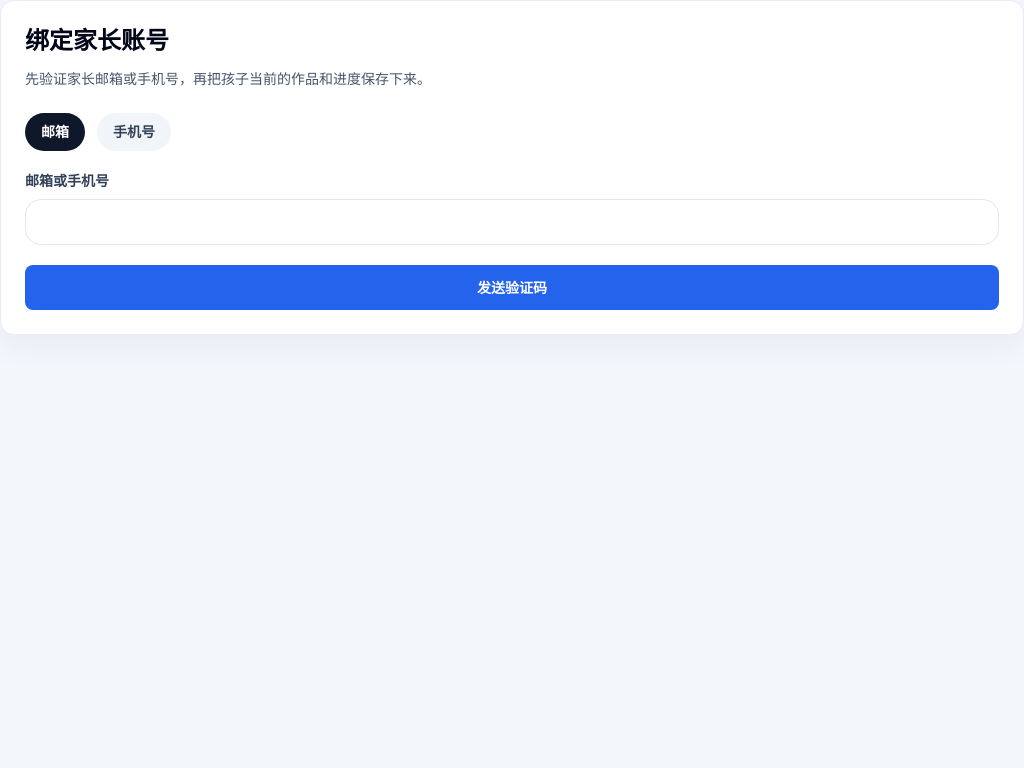
Test case: BindAccountForm › shows a generic error when the bind-account API fails without a known payload
The width and height of the screenshot is (1024, 768).
Step 1. Type "family@example.com" into the field labelled "邮箱或手机号" → (512, 222), box [25, 199, 999, 245]
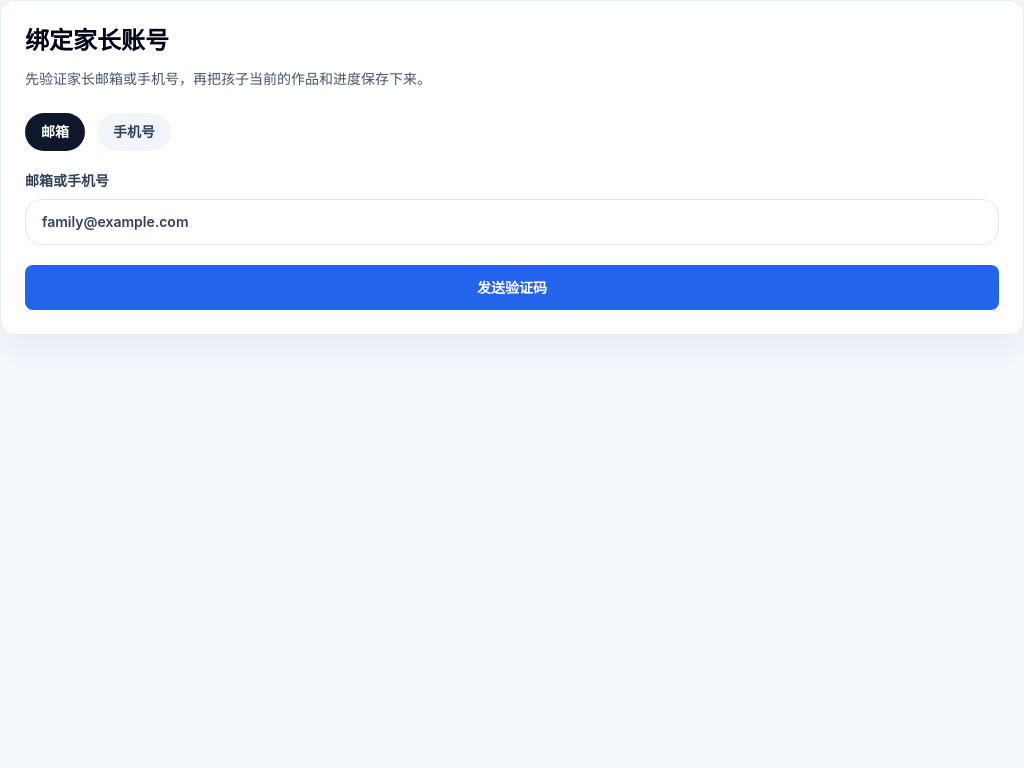
Step 2. Click the button "发送验证码" → (512, 288), box [25, 265, 999, 310]
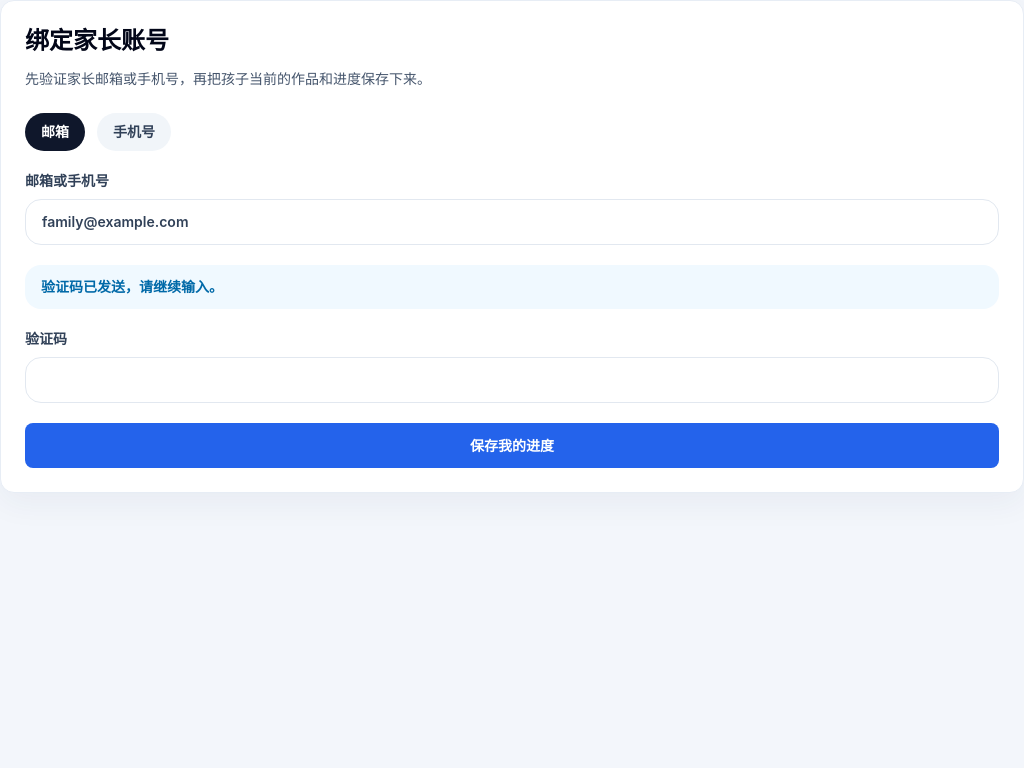
Step 3. Type "123456" into the field labelled "验证码" → (512, 380), box [25, 357, 999, 403]
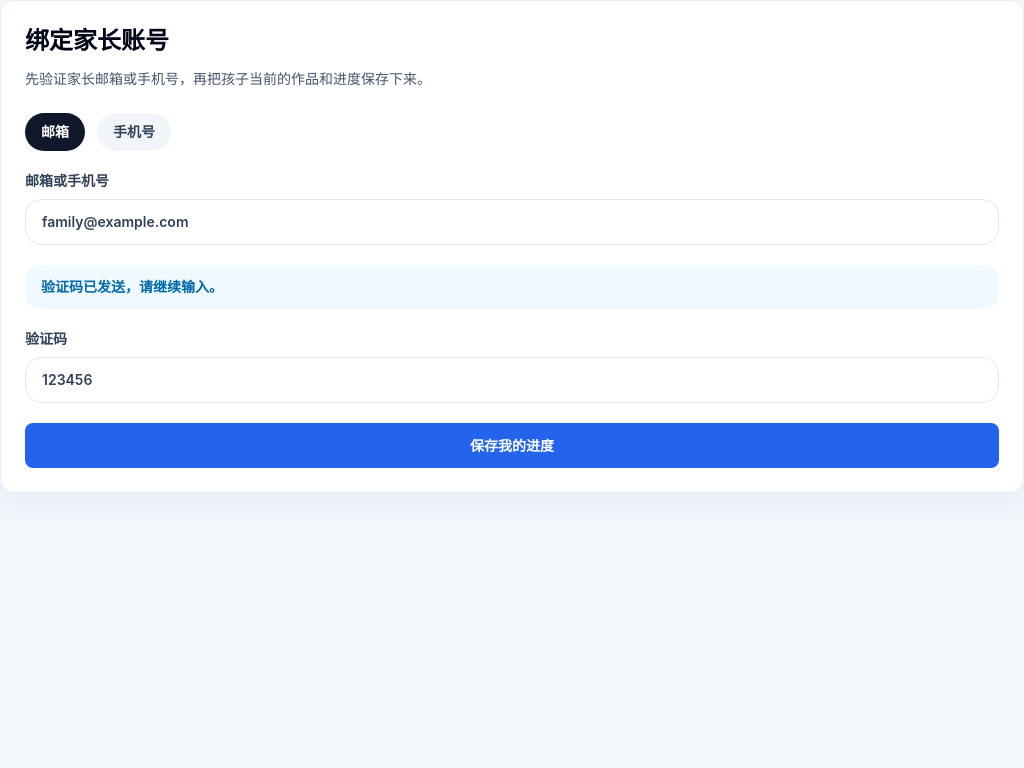
Step 4. Click the button "保存我的进度" → (512, 446), box [25, 423, 999, 468]
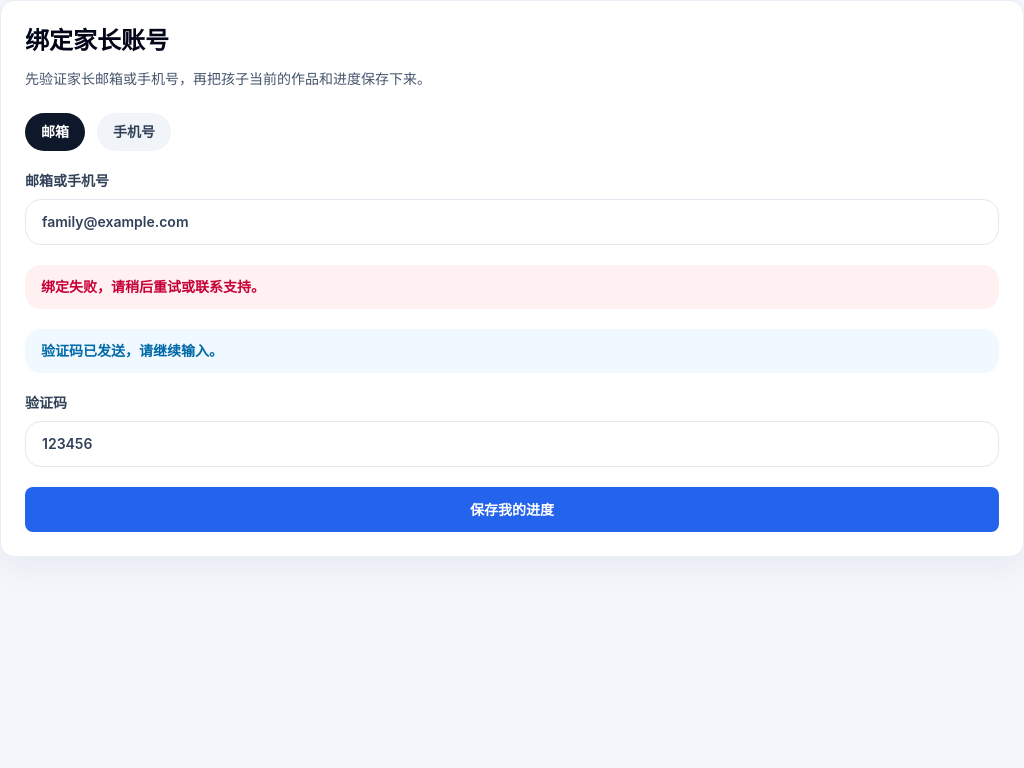
Now the text with test id "bind-account-error" shows "绑定失败", box [41, 278, 265, 295]
